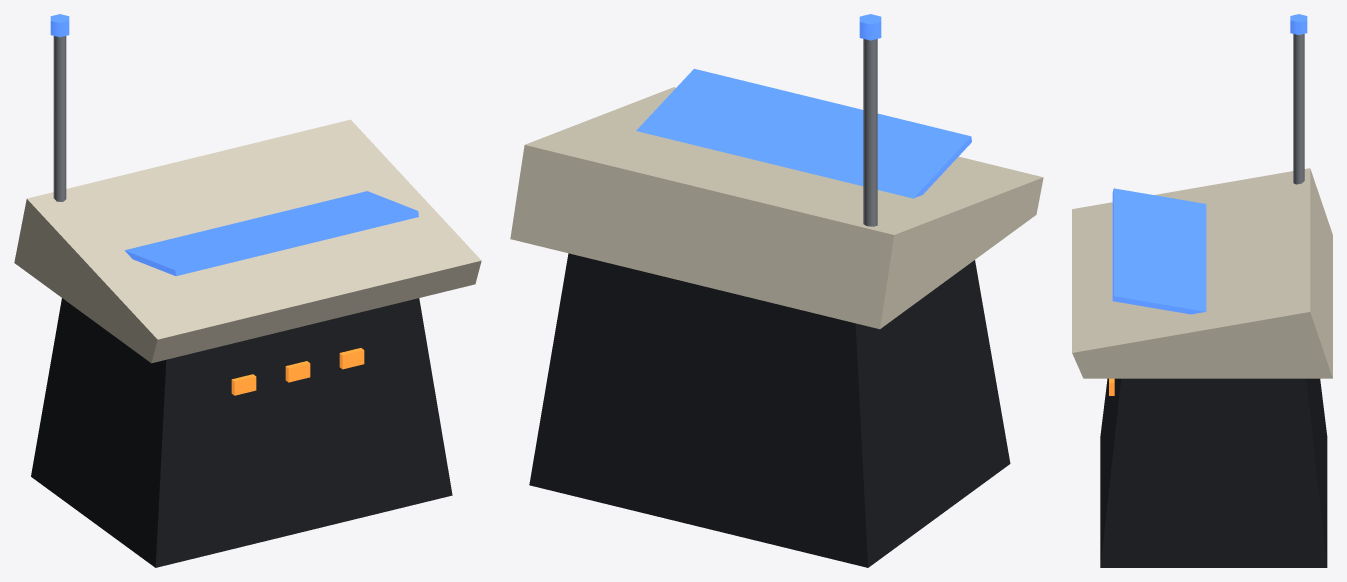
File: terminal.glb
The picture shows the model from 3 angles, left to right: view 1: azimuth 30°, elevation 25°; view 2: azimuth 150°, elevation 25°; view 3: azimuth 270°, elevation 25°; orthographic projection. The views are drawn at different scales.
Parts seen in each view (by area): view 1: terminal_mesh; view 2: terminal_mesh; view 3: terminal_mesh.
Part boxes in pixels (x1,y1,x2,y2): terminal_mesh: (14, 14, 481, 567); terminal_mesh: (510, 14, 1043, 567); terminal_mesh: (1072, 14, 1332, 567).
Size of the model in its own units: 1.2 by 1.65 by 0.92.
